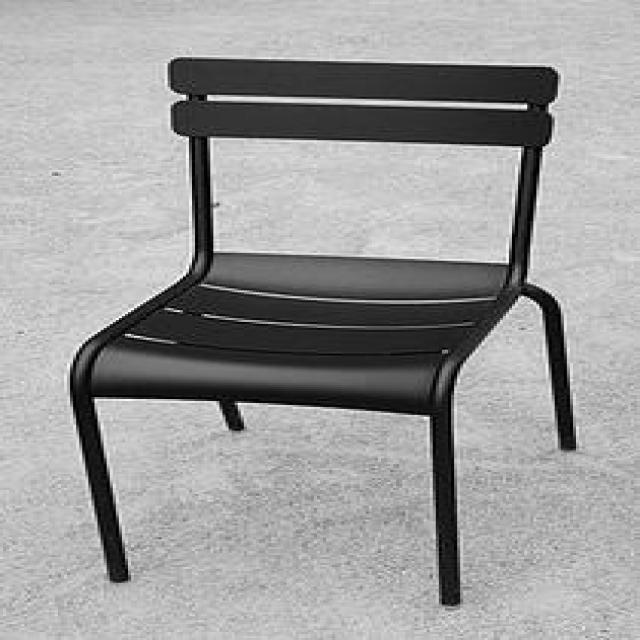chair: (67, 52, 583, 608)
